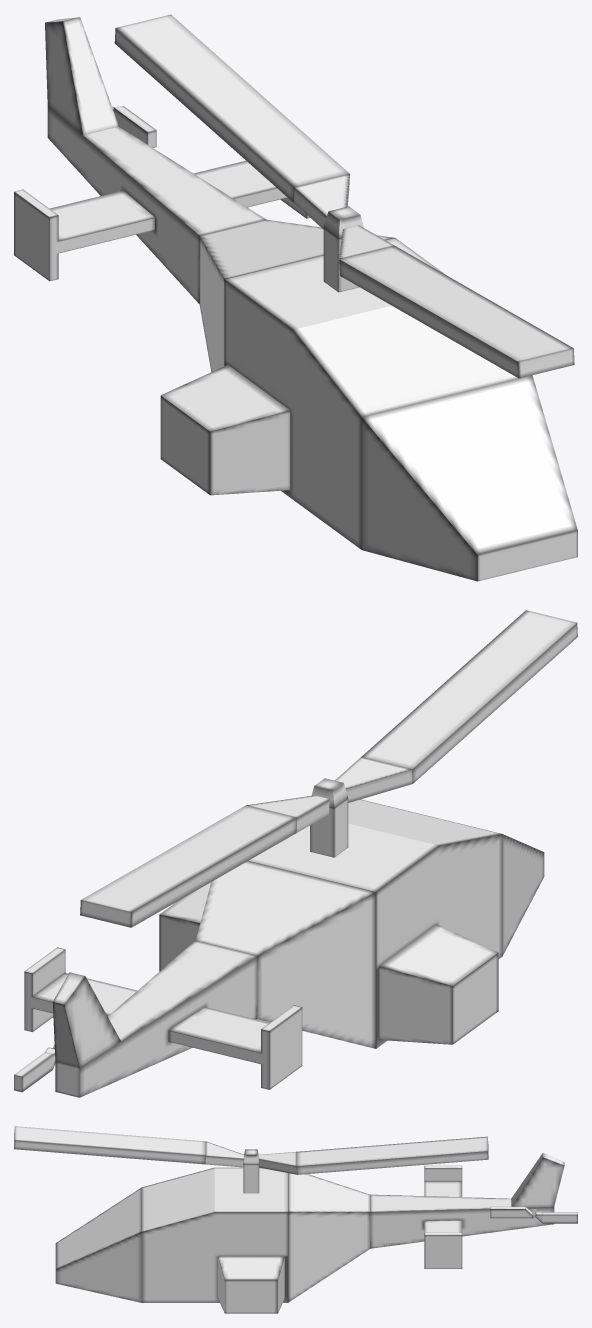
The model's file is Helicopter-01.fbx.
3 renders of one model, top to bottom at view 1: azimuth 30°, elevation 25°; view 2: azimuth 150°, elevation 25°; view 3: azimuth 270°, elevation 25°, orthographic. The views are drawn at different scales.
Visible parts, largest first — view 1: Helicopter_01, Propeller_02, Propeller_01; view 2: Helicopter_01, Propeller_02, Propeller_01; view 3: Helicopter_01, Propeller_02, Propeller_01.
Boxes of the visible parts, x1,y1,x2,y2 form: Helicopter_01: (14,17,577,581); Propeller_02: (114,14,574,378); Propeller_01: (112,106,156,147); Helicopter_01: (24,778,544,1097); Propeller_02: (80,610,577,927); Propeller_01: (14,1044,55,1092); Helicopter_01: (55,1149,564,1313); Propeller_02: (14,1126,488,1174); Propeller_01: (490,1206,577,1223).
Bounding box in the file's own units: 0.5173 × 0.4132 × 1.49.
